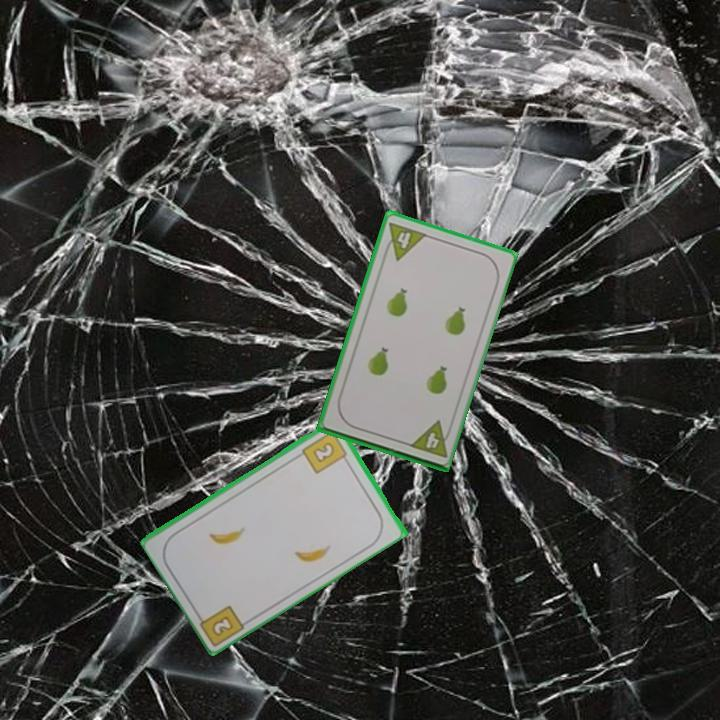2b: (299, 427, 352, 476), (194, 601, 248, 647)
4p: (379, 218, 429, 263), (405, 417, 455, 461)
